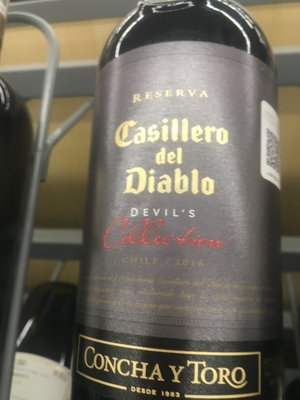casillero del diablo devils collection rojo: (80, 5, 286, 400)
